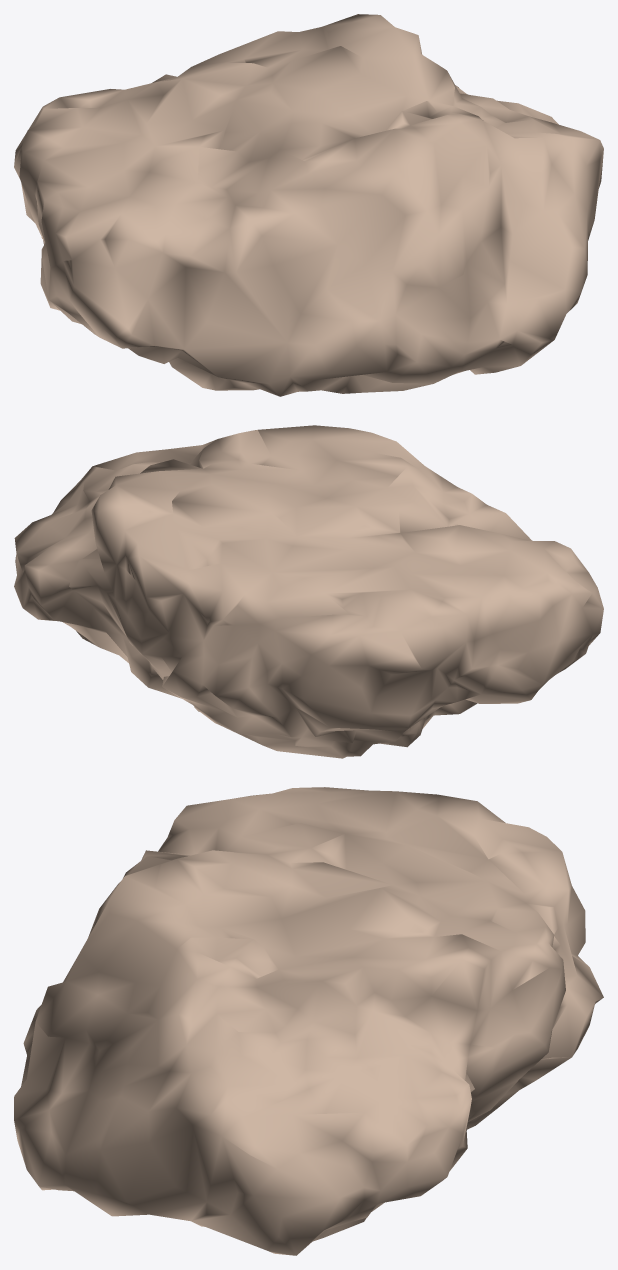
Rendered from rk_scree_2.glb.
3 renders of one model, top to bottom at view 1: azimuth 30°, elevation 25°; view 2: azimuth 150°, elevation 25°; view 3: azimuth 270°, elevation 25°, orthographic. The views are drawn at different scales.
Parts seen in each view (by area): view 1: namaqualand_rocks_02_a; view 2: namaqualand_rocks_02_a; view 3: namaqualand_rocks_02_a.
Part boxes in pixels (x1=…): namaqualand_rocks_02_a: x1=14, y1=14, x2=603, y2=396; namaqualand_rocks_02_a: x1=14, y1=425, x2=603, y2=758; namaqualand_rocks_02_a: x1=14, y1=787, x2=603, y2=1255.
Bounding box in the file's own units: 1 × 0.3958 × 0.7831.
